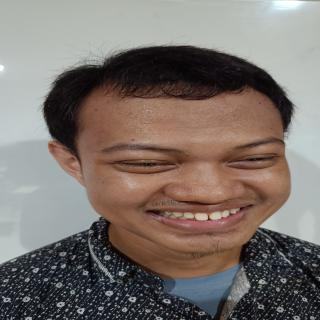Senang: (71, 77, 299, 256)
